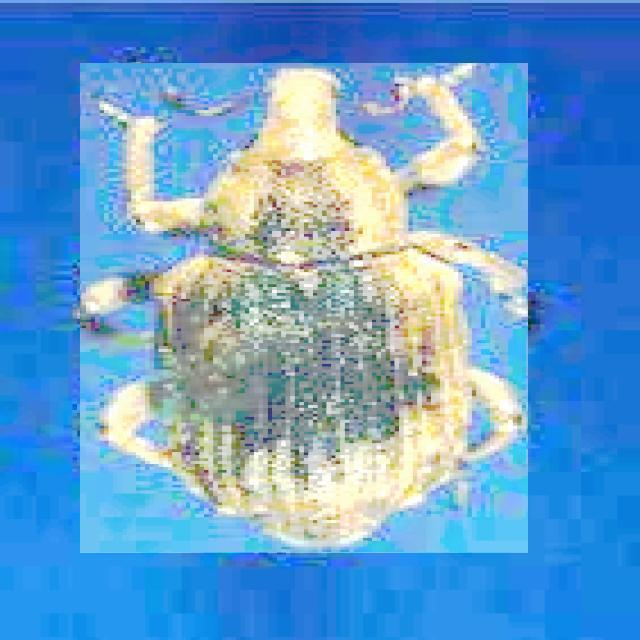rice-bug: (80, 64, 528, 554)
